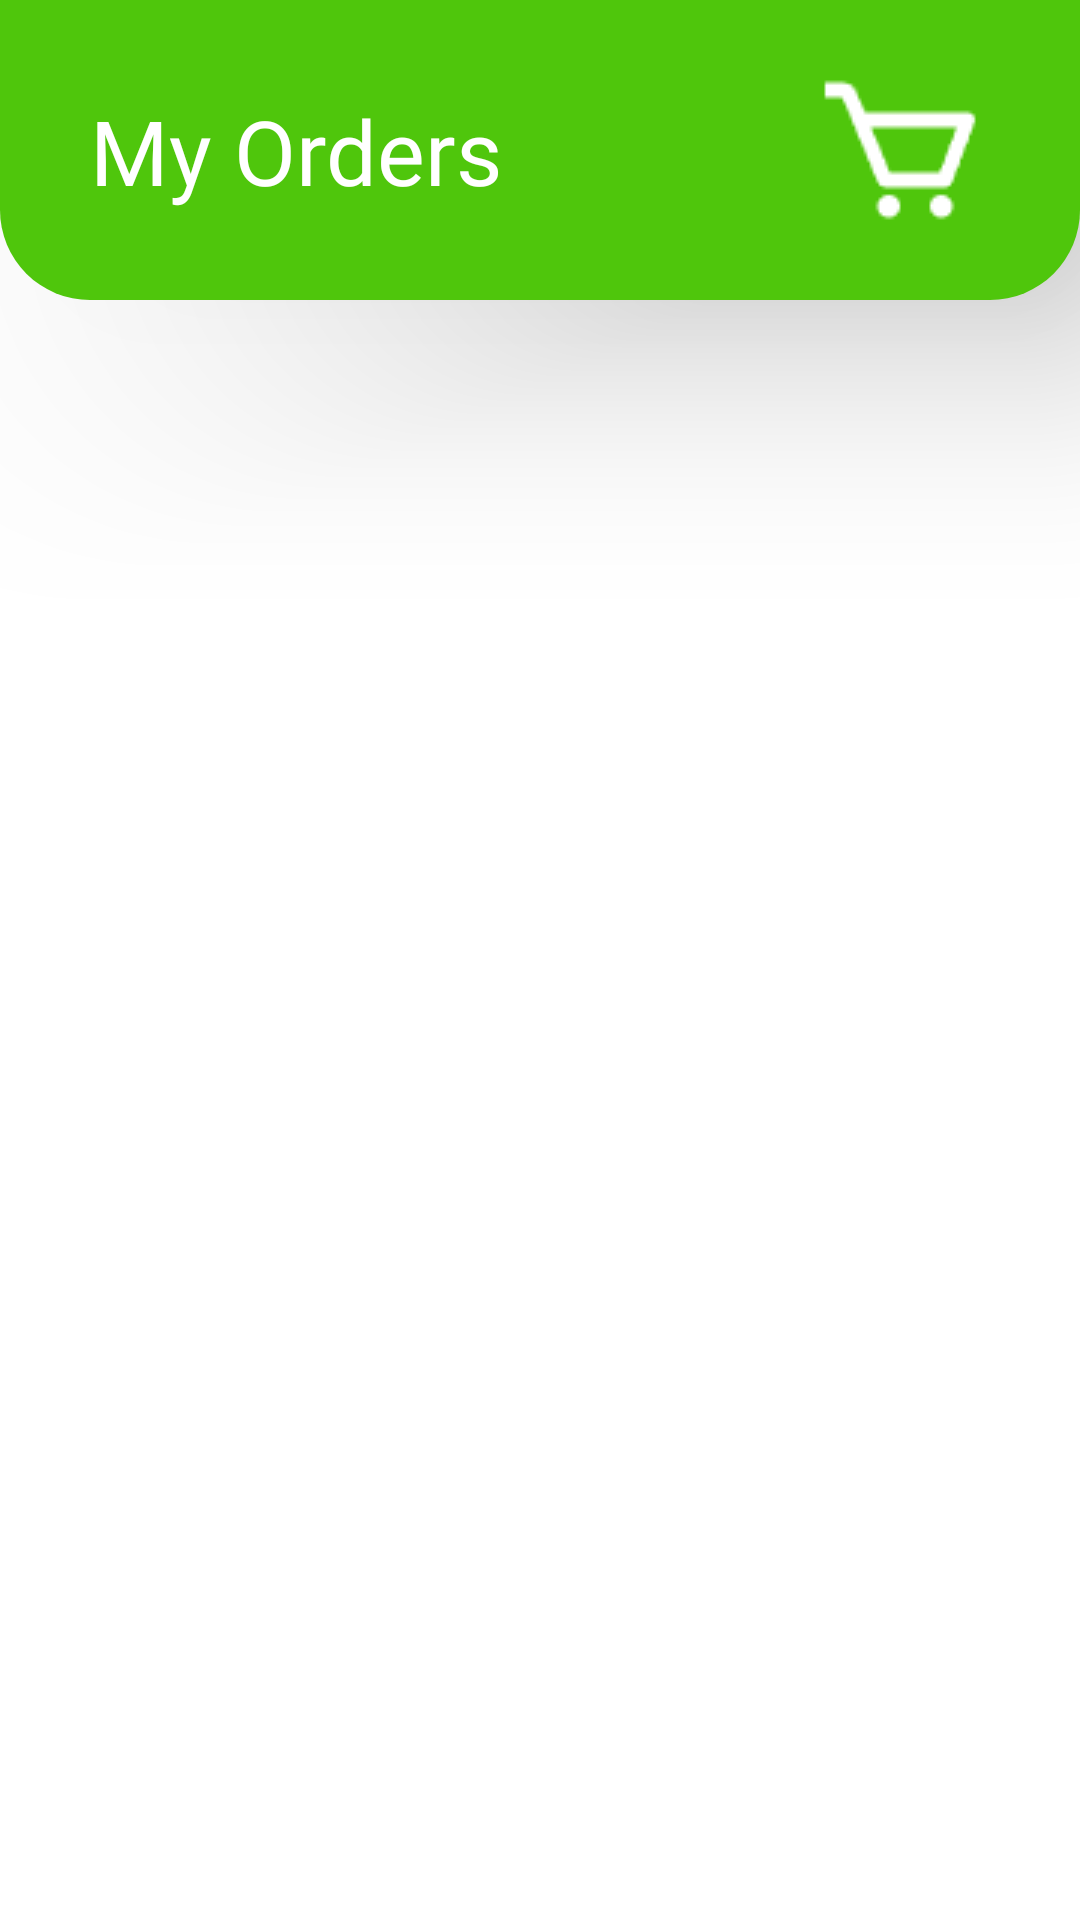

Icons on this 1080x1920 Android screen, each with the point to tap as [x,y]:
cart: [900,150]
